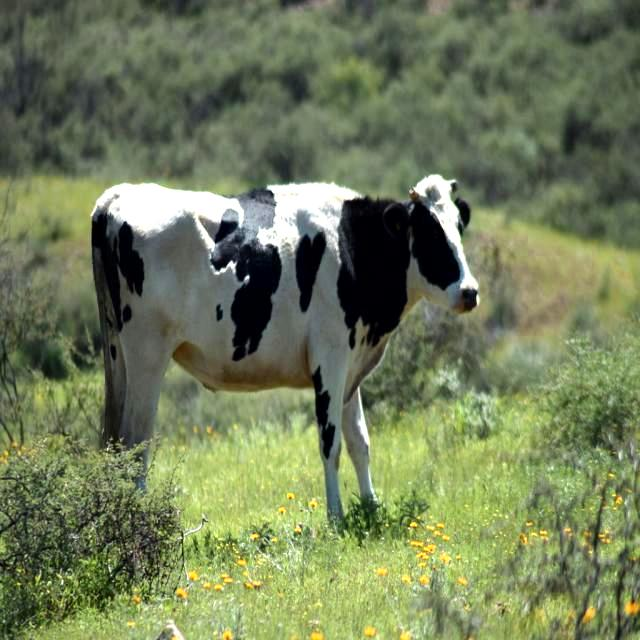COW: (91, 175, 478, 518)
